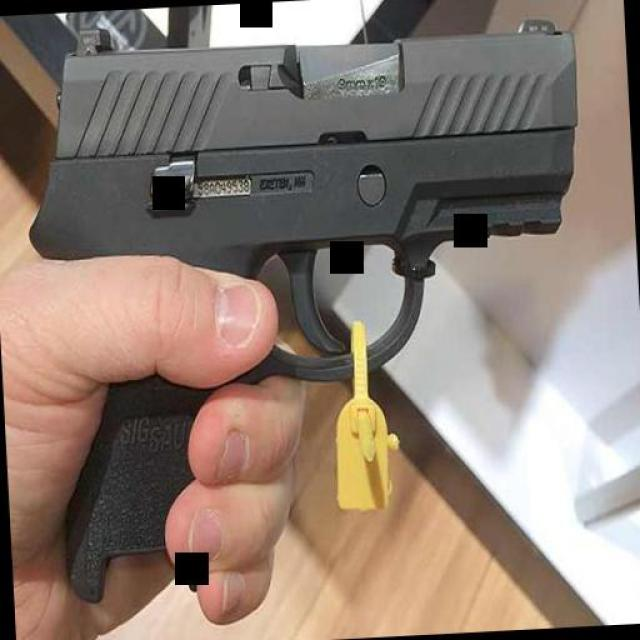gun: (14, 0, 602, 606)
